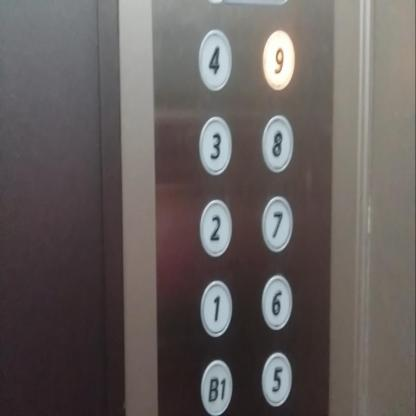1: (199, 276, 235, 340)
2: (198, 194, 234, 258)
3: (197, 110, 234, 178)
4: (197, 25, 234, 93)
5: (260, 349, 294, 408)
6: (260, 272, 294, 332)
7: (260, 194, 294, 254)
8: (260, 113, 295, 174)
9: (262, 26, 296, 90)
B1: (200, 356, 234, 416)
